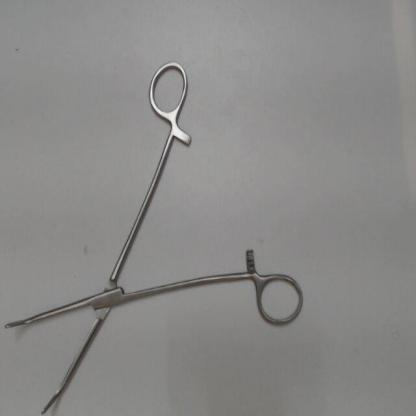Lahey Forceps: (0, 56, 310, 415)
